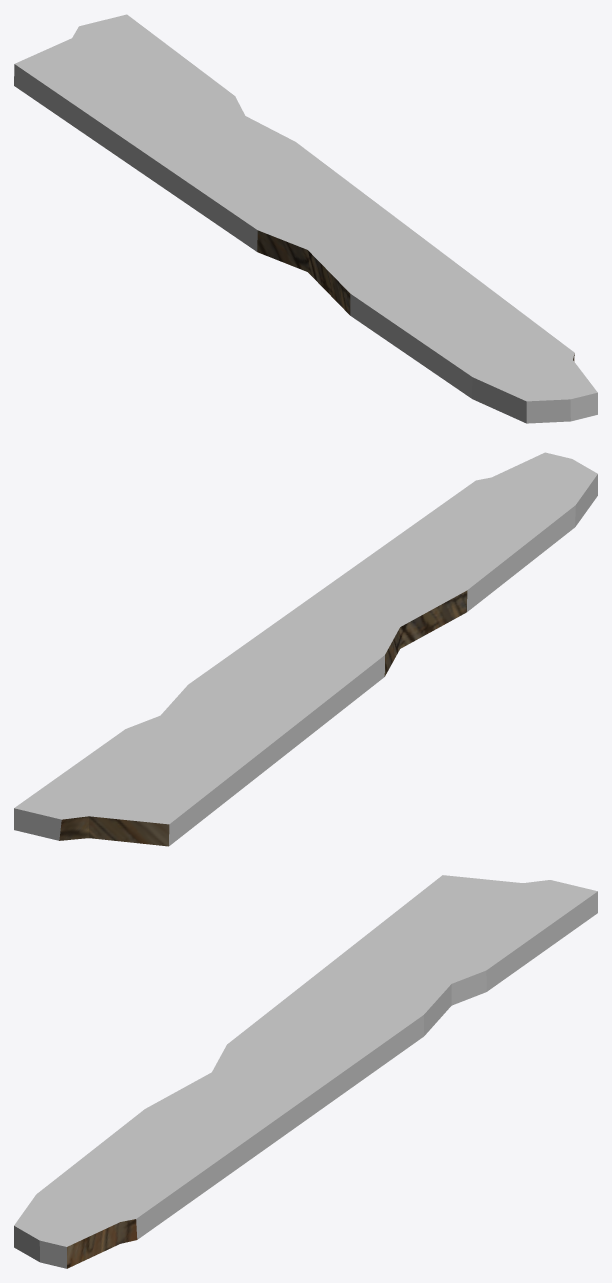
Rendered from lower_city_wood_plank_04.fbx.
The picture shows the model from 3 angles, top to bottom: view 1: azimuth 30°, elevation 25°; view 2: azimuth 150°, elevation 25°; view 3: azimuth 330°, elevation 25°; orthographic projection.
Visible parts, largest first — view 1: lower_city_wood_plank_04; view 2: lower_city_wood_plank_04; view 3: lower_city_wood_plank_04.
Boxes of the visible parts, x1,y1,x2,y2 form: lower_city_wood_plank_04: (14, 14, 597, 423); lower_city_wood_plank_04: (14, 452, 597, 846); lower_city_wood_plank_04: (14, 875, 597, 1268).
Size of the model in its own units: 0.4583 by 0.0718 by 2.97.
